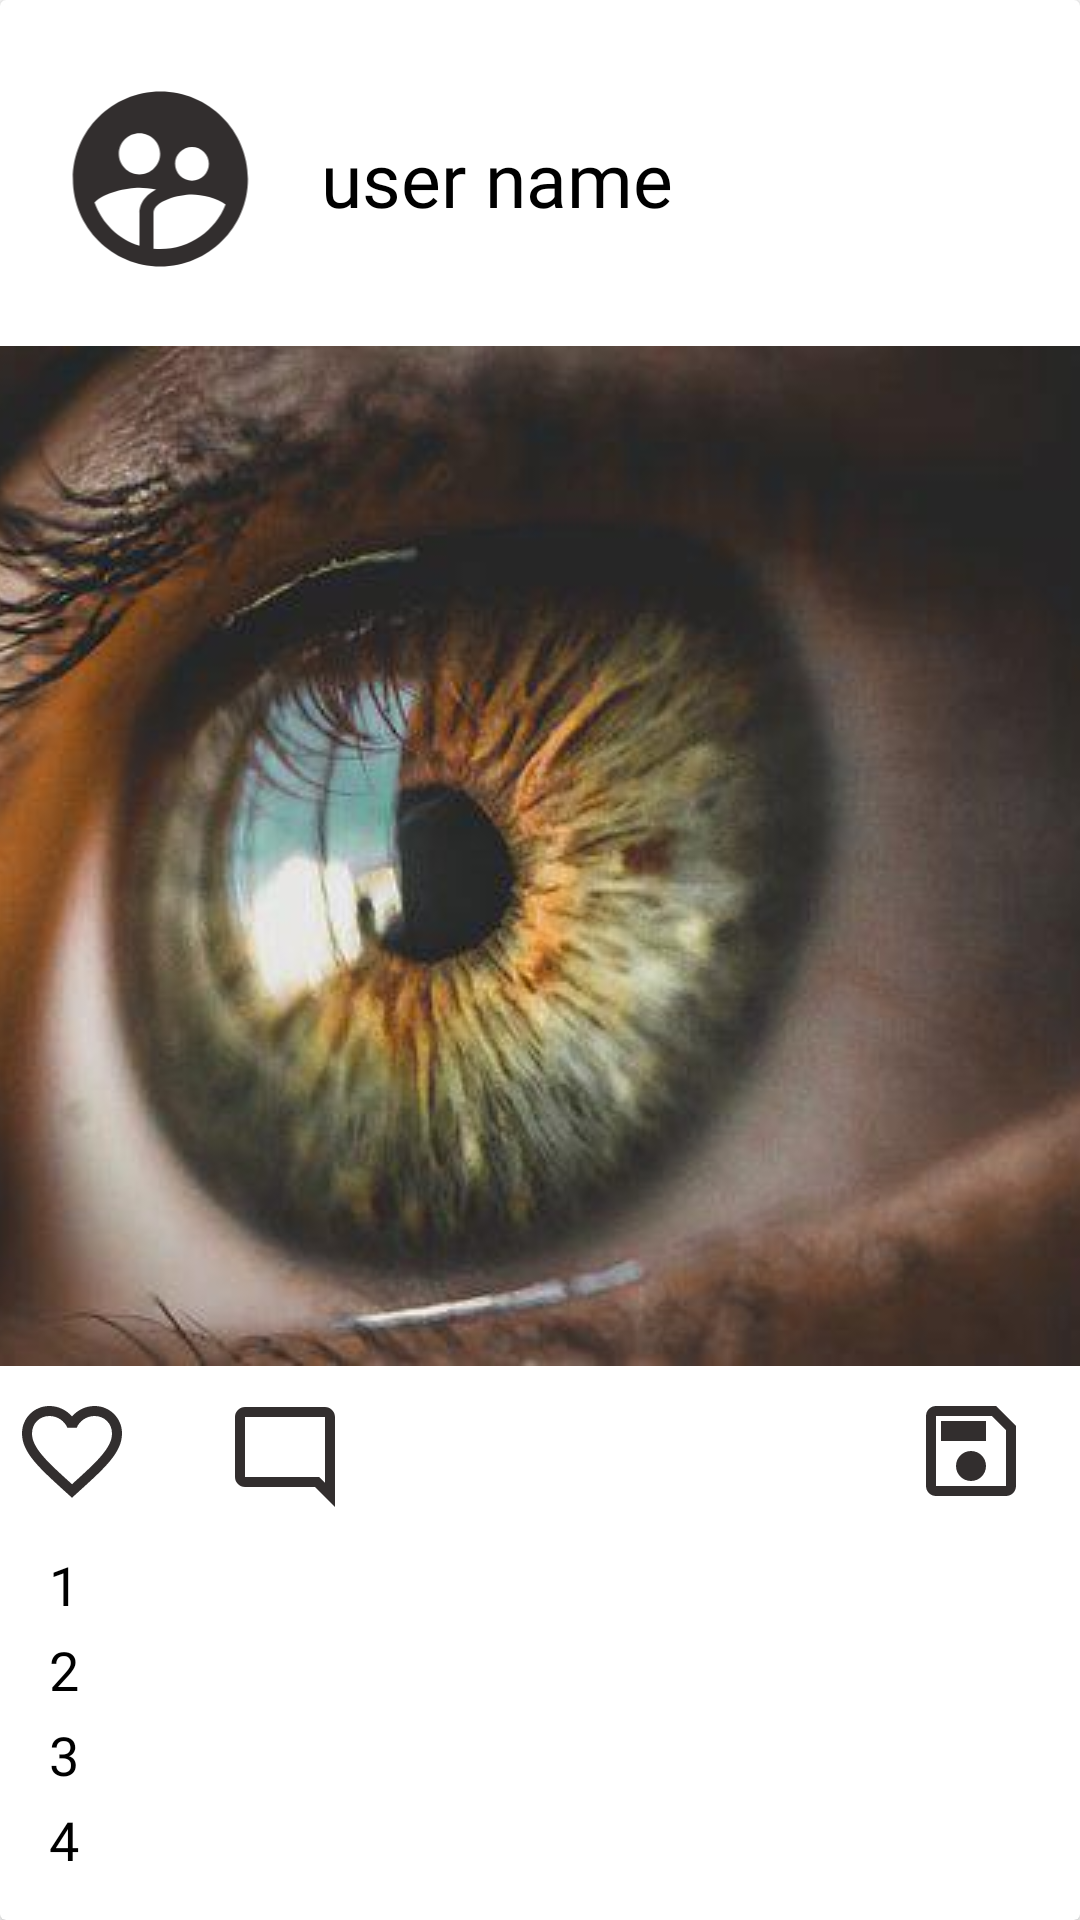

Icons on this 1080px x 1920px Android screen, each with the point to tap as (x,y):
comment border: (285,1457)
hart border: (72,1452)
save border: (971,1451)
